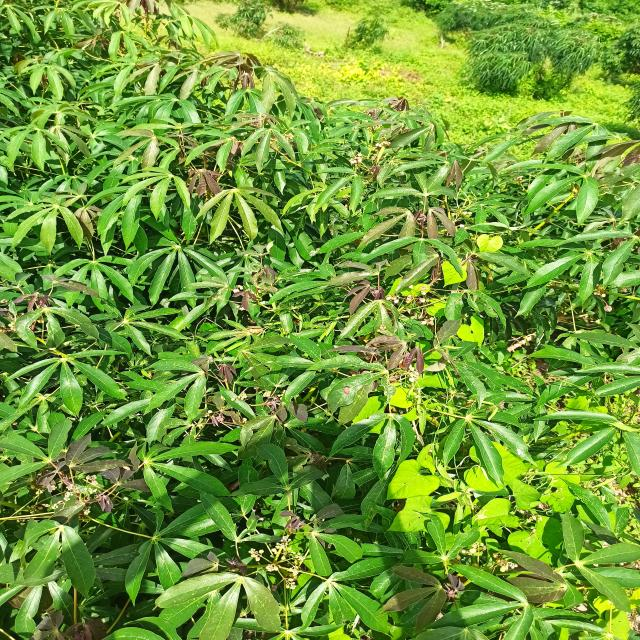Maleza: (466, 461, 577, 536), (391, 457, 440, 527), (457, 308, 494, 351), (444, 254, 473, 289), (479, 235, 512, 252)
Mosaico: (378, 334, 423, 374), (191, 161, 231, 197), (345, 280, 381, 312)
